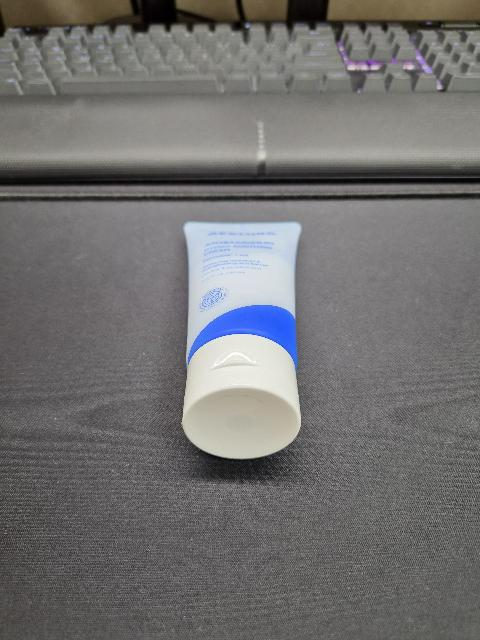handcream: (182, 222, 301, 459)
